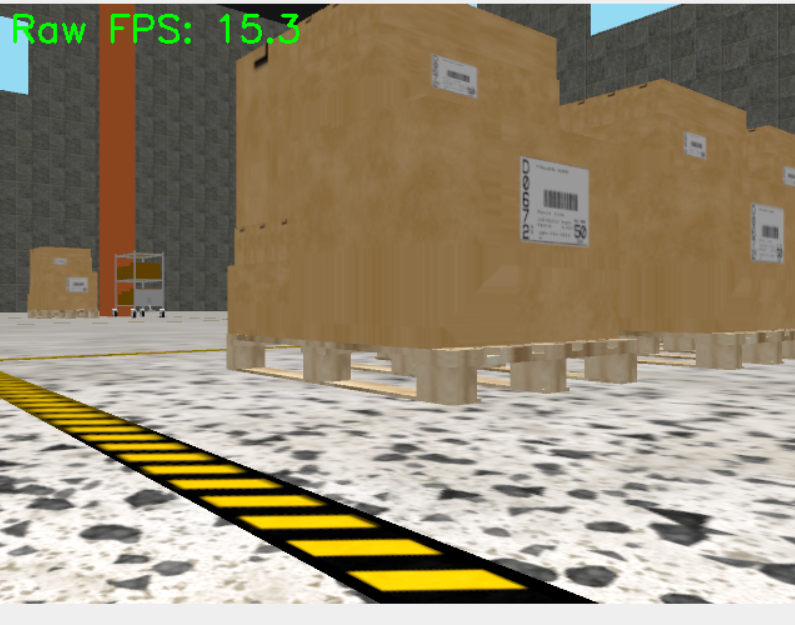barcode: (519, 155, 590, 249), (751, 202, 785, 266), (432, 53, 478, 99), (685, 132, 707, 159)
